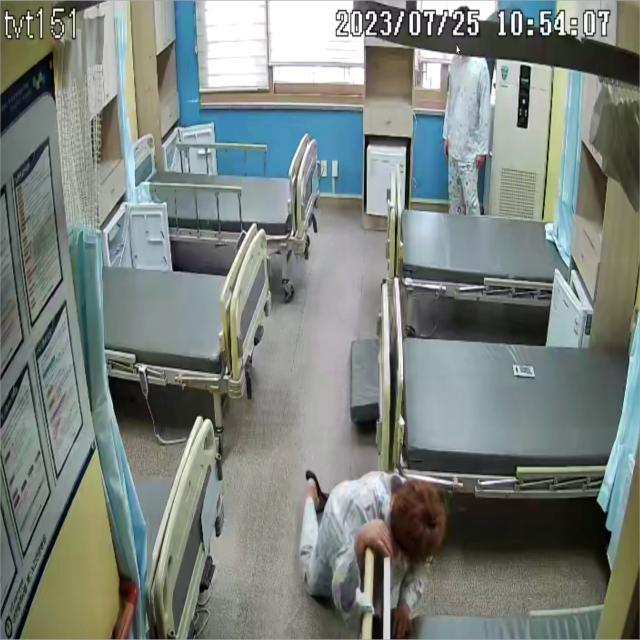bed: (397, 327, 631, 501), (102, 223, 274, 400), (136, 133, 320, 254), (388, 183, 570, 304)
danger: (298, 470, 442, 640)
patient: (298, 471, 442, 640)
